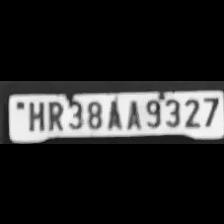2: (180, 95, 200, 127)
3: (65, 97, 83, 129), (164, 95, 181, 127)
7: (201, 94, 219, 128)
8: (84, 97, 104, 129)
9: (141, 96, 161, 128)
A: (123, 96, 141, 128), (105, 97, 123, 128)
H: (26, 98, 44, 130)
R: (45, 98, 65, 130)
